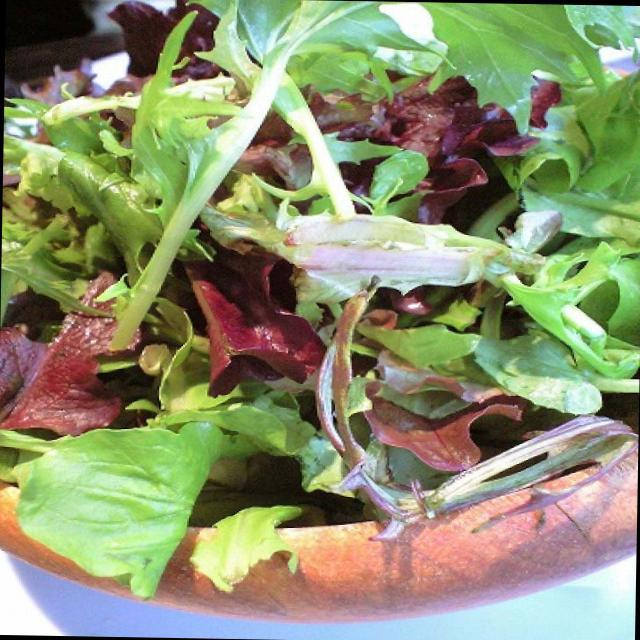Green Salad: (0, 0, 640, 551)
